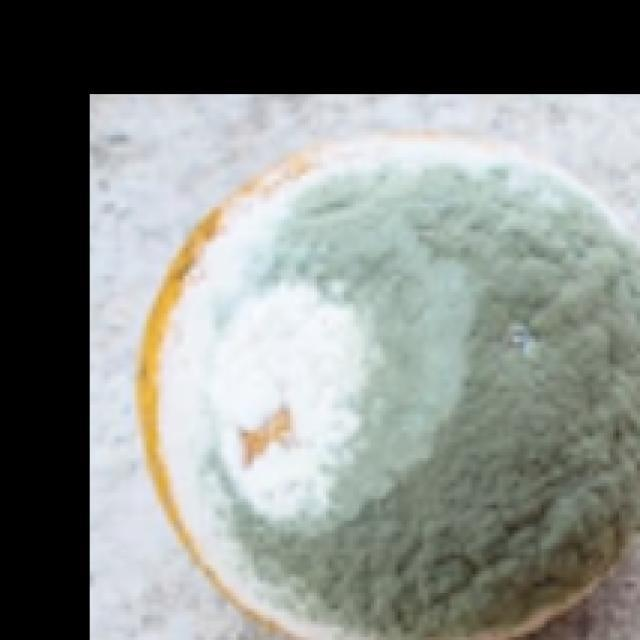sangat-busuk: (135, 138, 639, 639)
